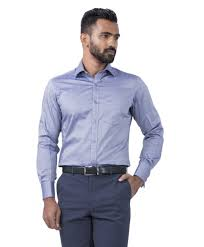F_belt: (58, 160, 130, 182)
F_dress pants: (54, 162, 136, 247)
F_shirt: (25, 63, 173, 167)
